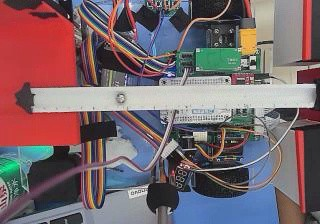ironball: (115, 92, 124, 102)
